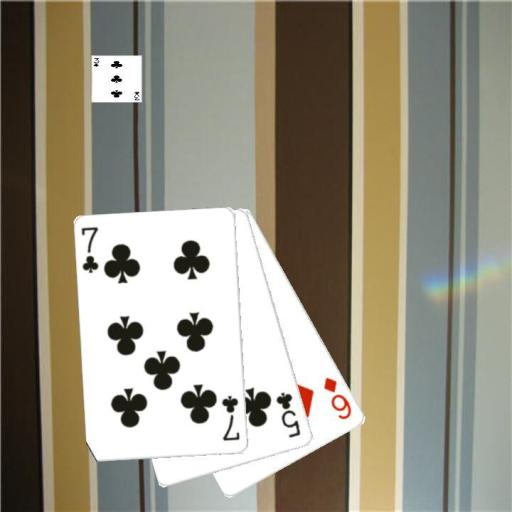5C: (273, 389, 302, 439)
6D: (321, 374, 353, 422)
7C: (219, 393, 242, 443), (78, 224, 100, 274)
